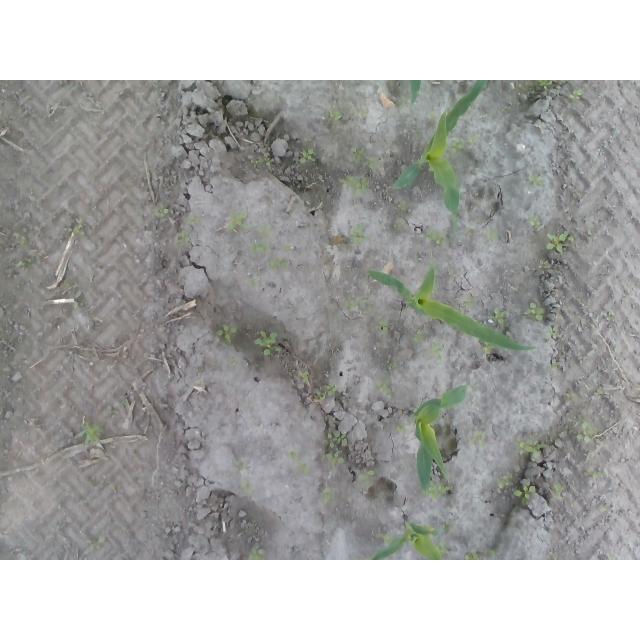Maize: (368, 253, 546, 355), (393, 80, 488, 238), (412, 377, 469, 496), (366, 517, 448, 560)
Weeds: (254, 330, 285, 358), (323, 432, 348, 465), (351, 147, 381, 173), (339, 173, 369, 197), (516, 440, 549, 460), (545, 232, 575, 254), (75, 423, 101, 448), (225, 210, 250, 234), (286, 452, 310, 477), (446, 136, 483, 151), (314, 382, 339, 404), (513, 483, 539, 503), (422, 484, 451, 500), (575, 422, 598, 442), (349, 223, 369, 245), (65, 217, 88, 236), (522, 304, 547, 321), (83, 535, 105, 554), (215, 324, 238, 342), (471, 430, 489, 451), (463, 549, 497, 560), (267, 258, 290, 274), (491, 308, 509, 328), (376, 379, 393, 397), (494, 475, 510, 494), (246, 545, 266, 560), (423, 232, 445, 245), (357, 469, 376, 484), (256, 153, 276, 167), (152, 203, 168, 219), (294, 369, 311, 384), (299, 150, 316, 165), (462, 295, 477, 311), (376, 321, 393, 335), (430, 342, 444, 359), (245, 478, 256, 498), (545, 325, 559, 340), (552, 484, 565, 500), (529, 174, 545, 187), (175, 232, 192, 244), (72, 290, 84, 307), (410, 330, 424, 344), (255, 225, 272, 236), (322, 487, 332, 505), (345, 301, 360, 313), (527, 216, 541, 228), (251, 241, 266, 252), (230, 357, 242, 369), (329, 109, 342, 120), (15, 259, 29, 269), (569, 89, 583, 99), (538, 80, 554, 88), (397, 423, 407, 434), (233, 459, 243, 469), (19, 235, 26, 243)
